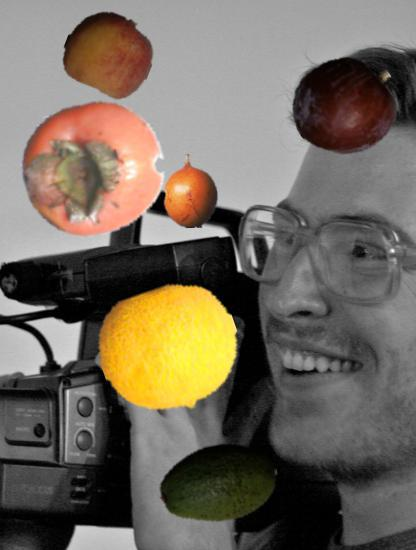Avocado: (157, 422, 279, 544)
Cantaloupe: (100, 280, 240, 420)
Granadilla: (154, 154, 229, 229)
Kaki: (20, 95, 168, 243)
Peach: (65, 9, 154, 98)
Plum: (292, 52, 400, 160)
